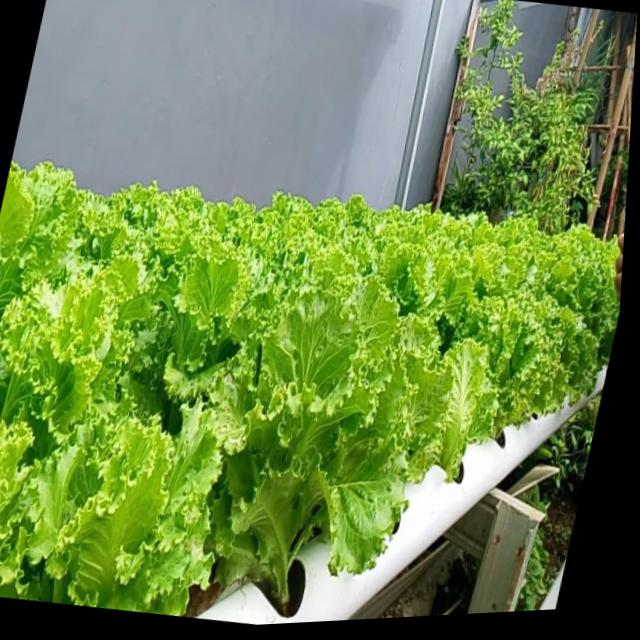Mature: (0, 169, 621, 621), (196, 292, 442, 621), (452, 293, 571, 453)
